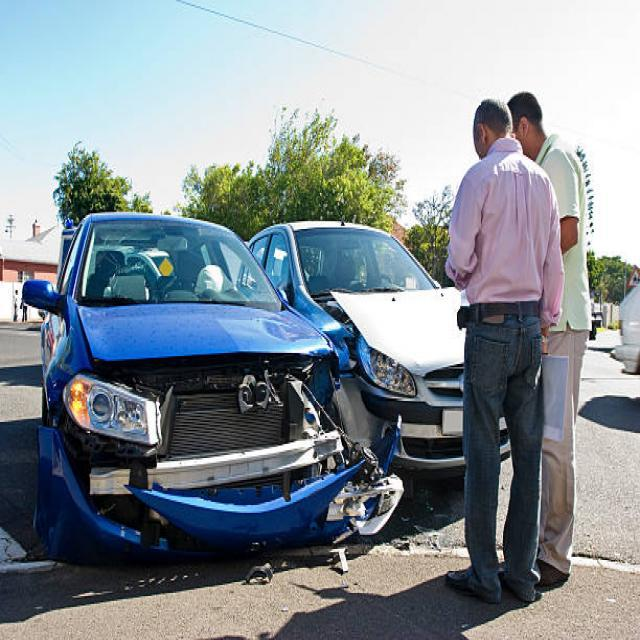accident: (18, 192, 460, 574)
